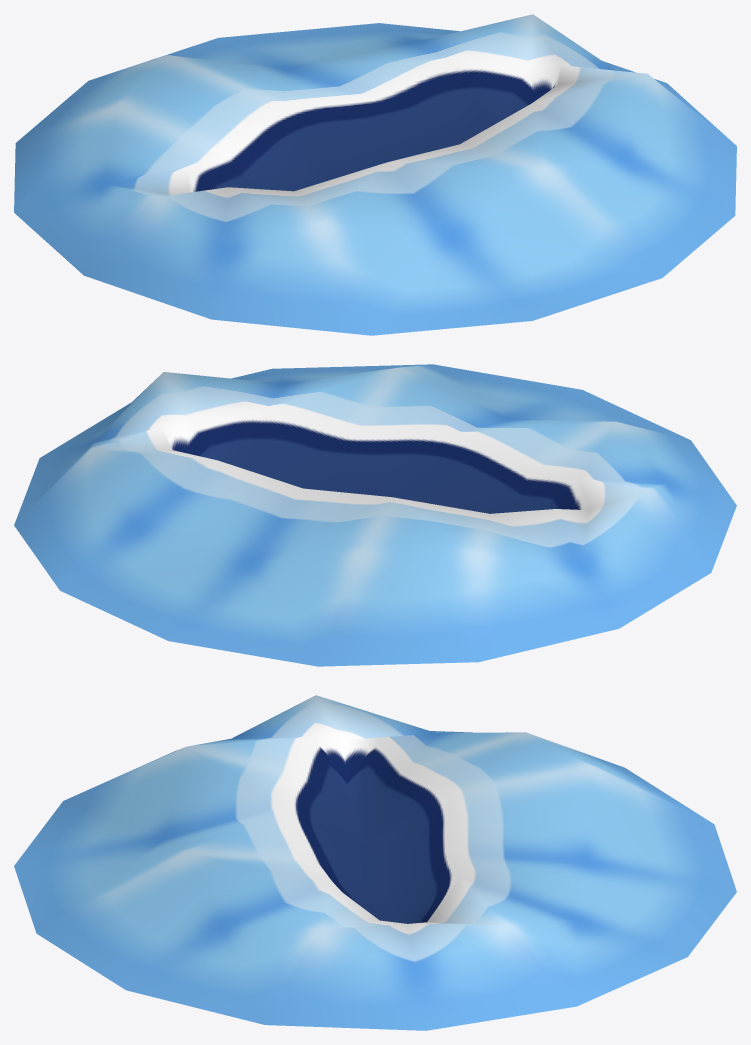
The model's file is Bubble_Popped_A.fbx.
The picture shows the model from 3 angles, top to bottom: view 1: azimuth 30°, elevation 25°; view 2: azimuth 150°, elevation 25°; view 3: azimuth 270°, elevation 25°; orthographic projection. The views are drawn at different scales.
Visible parts, largest first — view 1: Bubble_Popped_A; view 2: Bubble_Popped_A; view 3: Bubble_Popped_A.
Part boxes in pixels (bbox=[...]): Bubble_Popped_A: bbox=[14, 14, 736, 335]; Bubble_Popped_A: bbox=[14, 364, 736, 666]; Bubble_Popped_A: bbox=[14, 695, 736, 1030].
Size of the model in its own units: 1.12 by 0.1128 by 1.13.
Materials: 1 (1 with a texture image).
